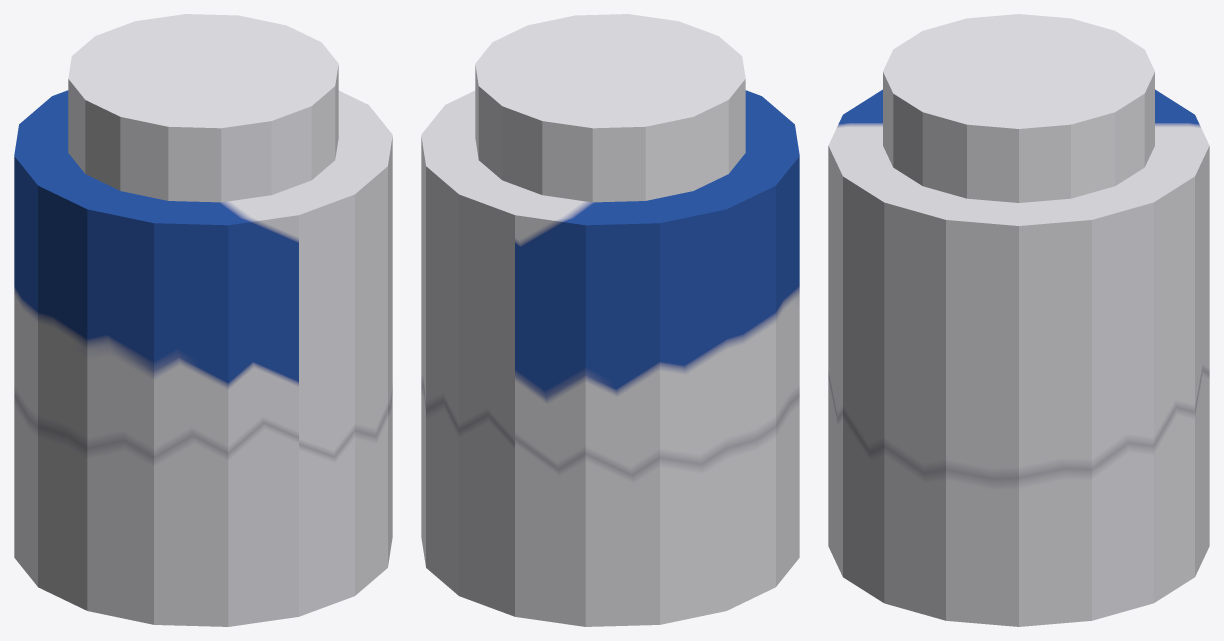
The model's file is PillsJar.glb.
3 renders of one model, left to right at view 1: azimuth 30°, elevation 25°; view 2: azimuth 150°, elevation 25°; view 3: azimuth 270°, elevation 25°, orthographic.
Visible parts, largest first — view 1: JarBody, Cap; view 2: JarBody, Cap; view 3: JarBody, Cap.
Boxes of the visible parts, x1,y1,x2,y2 form: JarBody: (14, 90, 392, 626); Cap: (68, 14, 338, 202); JarBody: (421, 90, 799, 626); Cap: (475, 14, 745, 202); JarBody: (828, 89, 1209, 626); Cap: (883, 14, 1154, 202).
Size of the model in its own units: 0.056 by 0.077 by 0.056.
2 materials, 1 textured.
